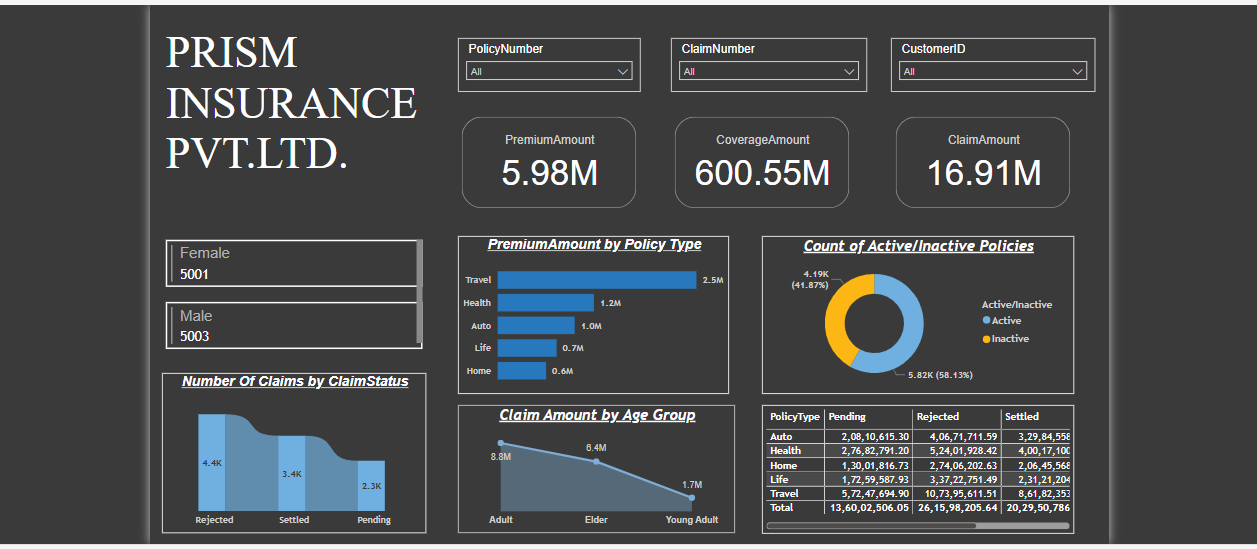

This screenshot's page, from the dashboard's own definition file:
{"tool":"powerbi","page":{"name":"Page 1","canvas":[1280,720],"ordinal":0},"visuals":[{"type":"slicer","fields":{"Values":["InsuranceData.PolicyNumber"]},"box":[411.4,44.6,243.7,72.4],"z":0},{"type":"slicer","fields":{"Values":["InsuranceData.ClaimNumber"]},"box":[696.1,44.6,261.8,72.4],"z":1000},{"type":"slicer","fields":{"Values":["InsuranceData.CustomerID"]},"box":[990.5,44.6,272.7,72.4],"z":2000},{"type":"textbox","box":[15.9,26,353.5,251],"z":3000},{"type":"cardVisual","fields":{"Data":["Sum(InsuranceData.PremiumAmount)"]},"box":[411.2,144.3,243.8,132.7],"z":4000},{"type":"cardVisual","fields":{"Data":["Sum(InsuranceData.CoverageAmount)"]},"box":[695.4,144.3,243.8,132.7],"z":5000},{"type":"cardVisual","fields":{"Data":["Sum(InsuranceData.ClaimAmount)"]},"box":[991.2,144.3,243.8,132.7],"z":6000},{"type":"multiRowCard","fields":{"Values":["InsuranceData.Gender","CountNonNull(InsuranceData.Gender)"]},"box":[15.9,308.8,353.5,161.6],"z":7000},{"type":"ribbonChart","title":"Number Of Claims  by ClaimStatus","fields":{"Category":["InsuranceData.ClaimStatus"],"Y":["CountNonNull(InsuranceData.ClaimStatus)"]},"box":[15.9,492,353.5,213.5],"z":8000},{"type":"barChart","title":"PremiumAmount by Policy Type","fields":{"Category":["InsuranceData.PolicyType"],"Y":["Sum(InsuranceData.PremiumAmount)"]},"box":[411.2,308.8,362.1,210.6],"z":9000},{"type":"lineChart","title":"Claim Amount by Age Group","fields":{"Category":["InsuranceData.Age Group"],"Y":["Sum(InsuranceData.ClaimAmount)"]},"box":[411.4,534.5,370.4,171.3],"z":10000},{"type":"donutChart","title":"Count of Active/Inactive Policies","fields":{"Category":["InsuranceData.Active/Inactive"],"Y":["CountNonNull(InsuranceData.Active/Inactive)"]},"box":[818,308.8,417,210.6],"z":11000},{"type":"pivotTable","fields":{"Values":["Sum(InsuranceData.CoverageAmount)"],"Rows":["InsuranceData.PolicyType"],"Columns":["InsuranceData.ClaimStatus"]},"box":[818,533.8,417,171.7],"z":12000}]}

Visuals, with their boxes on the page's 1280x720 design canvas (x1, y1, x2, y2). These are canvas units, not pixel positions in the 1257x549 screenshot, which may show the page scaled, cropped or inside an application window:
slicer - InsuranceData.PolicyNumber: [x1=411, y1=45, x2=655, y2=117]
slicer - InsuranceData.ClaimNumber: [x1=696, y1=45, x2=958, y2=117]
slicer - InsuranceData.CustomerID: [x1=990, y1=45, x2=1263, y2=117]
textbox: [x1=16, y1=26, x2=369, y2=277]
cardVisual - Sum(InsuranceData.PremiumAmount): [x1=411, y1=144, x2=655, y2=277]
cardVisual - Sum(InsuranceData.CoverageAmount): [x1=695, y1=144, x2=939, y2=277]
cardVisual - Sum(InsuranceData.ClaimAmount): [x1=991, y1=144, x2=1235, y2=277]
multiRowCard - InsuranceData.Gender x CountNonNull(InsuranceData.Gender): [x1=16, y1=309, x2=369, y2=470]
"Number Of Claims  by ClaimStatus" ribbonChart: [x1=16, y1=492, x2=369, y2=706]
"PremiumAmount by Policy Type" barChart: [x1=411, y1=309, x2=773, y2=519]
"Claim Amount by Age Group" lineChart: [x1=411, y1=534, x2=782, y2=706]
"Count of Active/Inactive Policies" donutChart: [x1=818, y1=309, x2=1235, y2=519]
pivotTable - Sum(InsuranceData.CoverageAmount) x InsuranceData.PolicyType: [x1=818, y1=534, x2=1235, y2=706]
